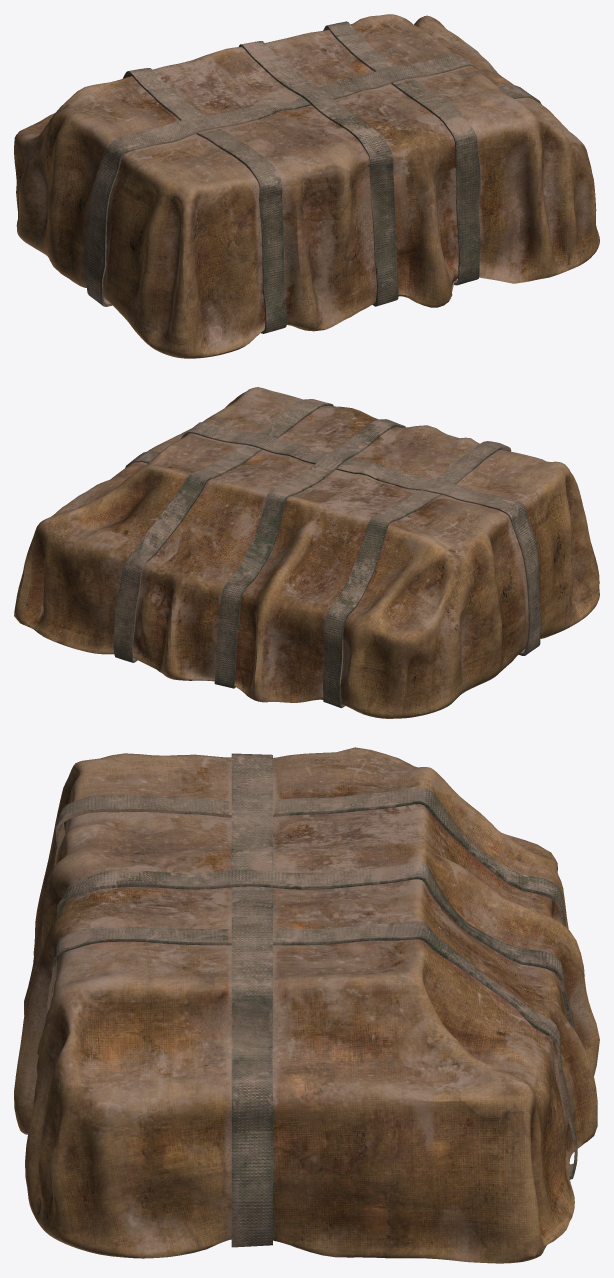
The model's file is xi_dsp_covered_stall.gltf.
The picture shows the model from 3 angles, top to bottom: view 1: azimuth 30°, elevation 25°; view 2: azimuth 150°, elevation 25°; view 3: azimuth 270°, elevation 25°; orthographic projection. The views are drawn at different scales.
Parts seen in each view (by area): view 1: xi_dsp_covered_stall; view 2: xi_dsp_covered_stall; view 3: xi_dsp_covered_stall.
Part boxes in pixels (box(x1,y1,x2,y2)): xi_dsp_covered_stall: box(14, 14, 599, 358); xi_dsp_covered_stall: box(14, 387, 599, 718); xi_dsp_covered_stall: box(14, 747, 599, 1263).
Size of the model in its own units: 3.84 by 1.33 by 3.03.
Materials: 1 (1 with a texture image).
